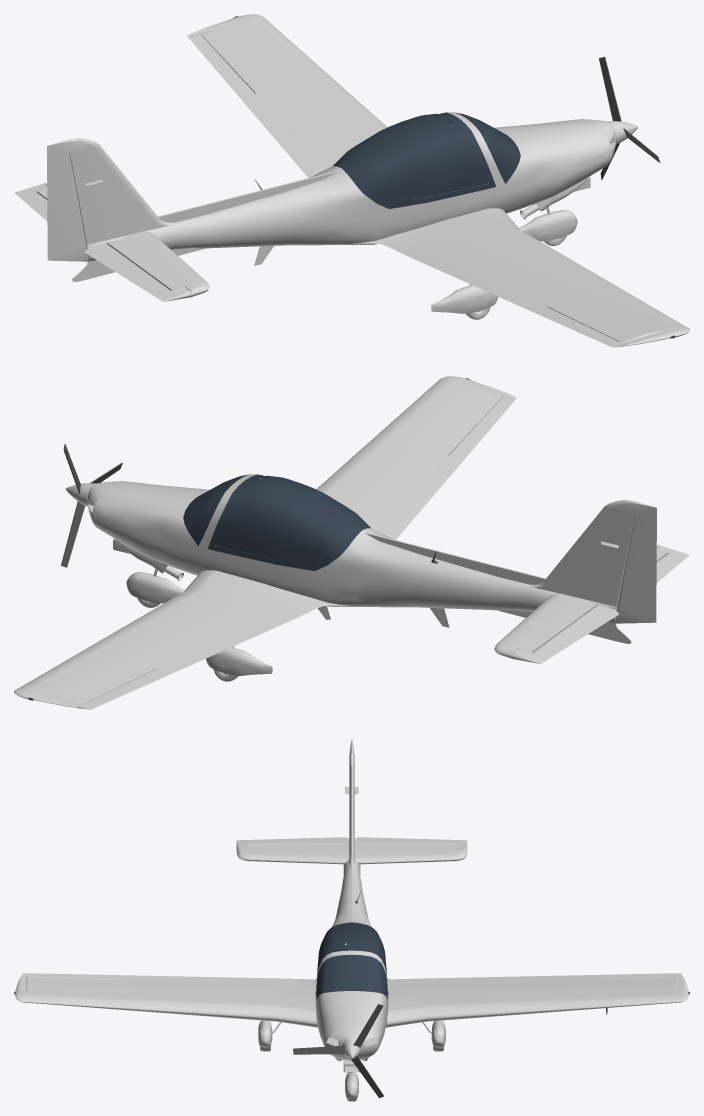
3 renders of one model, top to bottom at view 1: azimuth 30°, elevation 25°; view 2: azimuth 150°, elevation 25°; view 3: azimuth 270°, elevation 25°, orthographic. The views are drawn at different scales.
Parts seen in each view (by area): view 1: body, glass, spin; view 2: body, glass, spin; view 3: body, glass, spin.
Part boxes in pixels (box(x1,y1,x2,y2)): body: box(14, 14, 689, 347); glass: box(233, 16, 675, 338); spin: box(599, 57, 660, 179); body: box(14, 376, 689, 709); glass: box(28, 378, 469, 700); spin: box(61, 444, 122, 567); body: box(15, 739, 688, 1101); glass: box(14, 922, 689, 999); spin: box(293, 1004, 383, 1098).
Bounding box in the file's own units: 1.72 × 0.6187 × 2.2.
